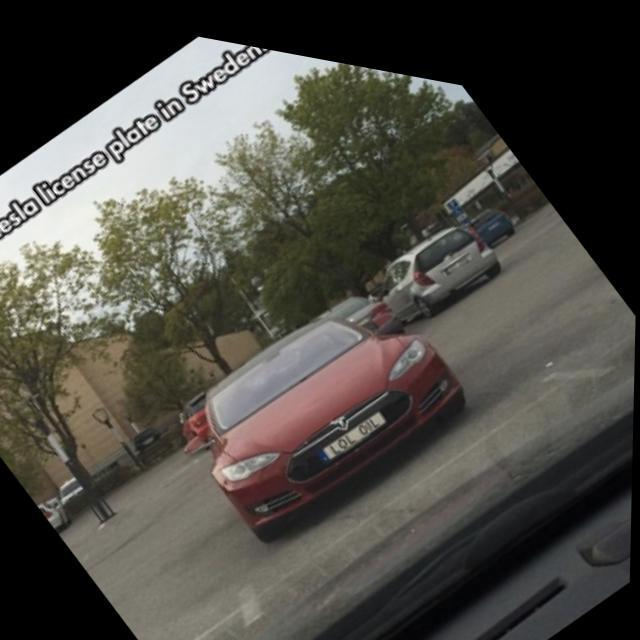license_plate: (322, 384, 389, 456)
